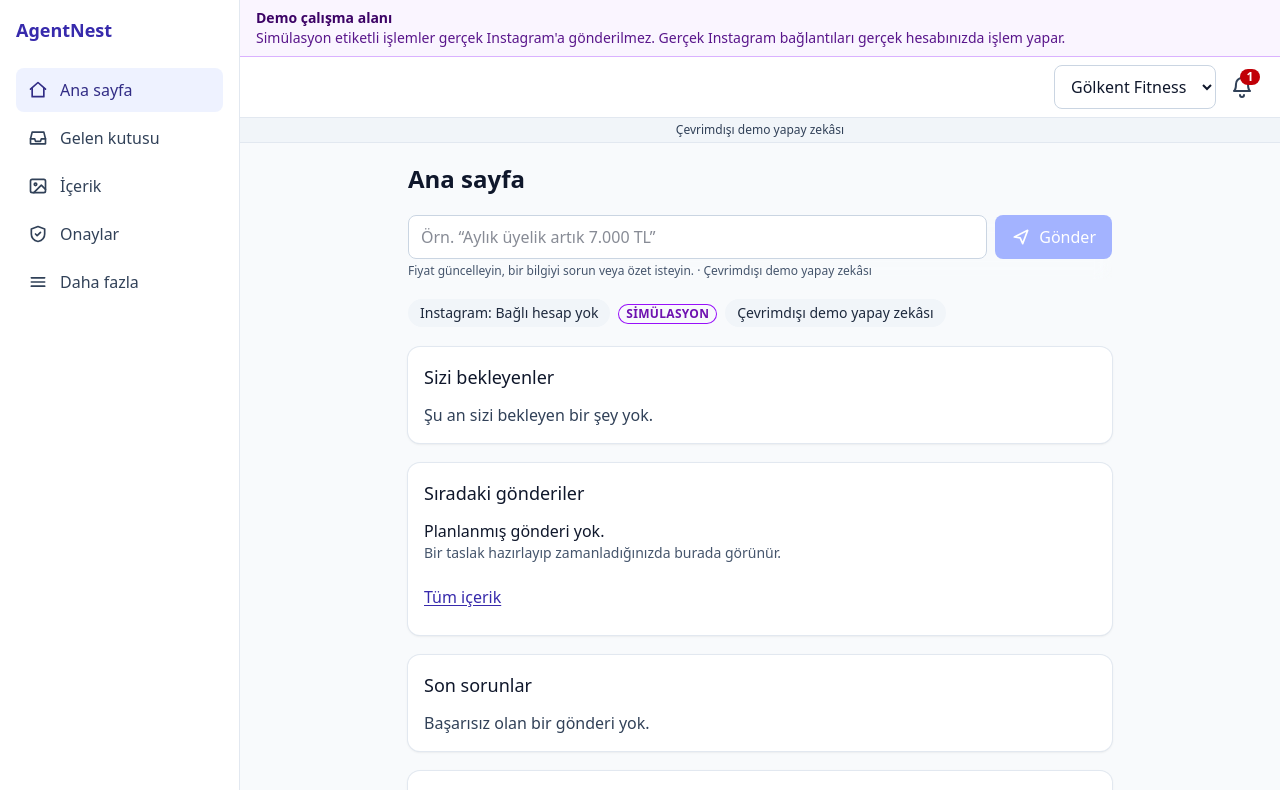
Test case: notifications for content (G14) › the bell shows them with the simulation badge and links to the item
Click the link named "Bildirimler" at [1245, 84], box left=1230, top=69, right=1260, bottom=99
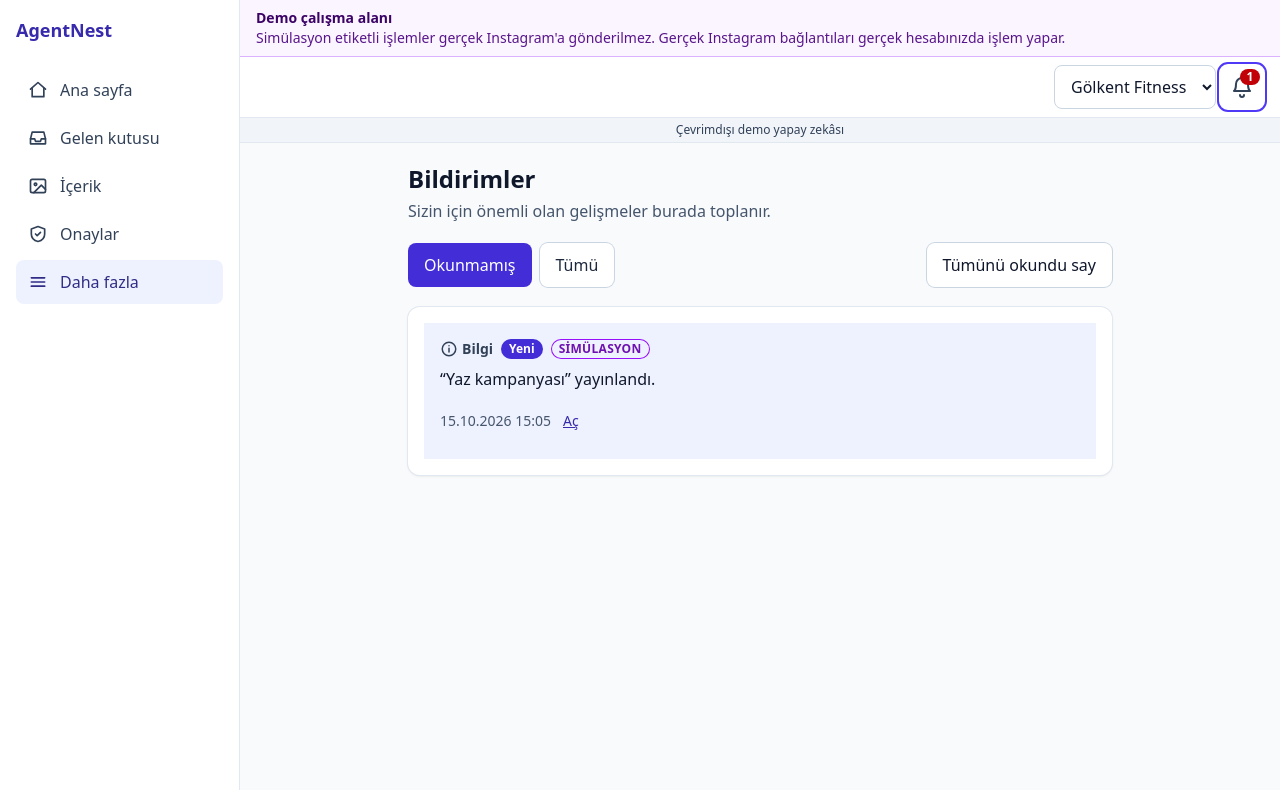
Expected: the text "SİMÜLASYON" is shown, left=551, top=339, right=650, bottom=359
Now the text "“Yaz kampanyası” yayınlandı." is shown, box left=440, top=368, right=655, bottom=390
